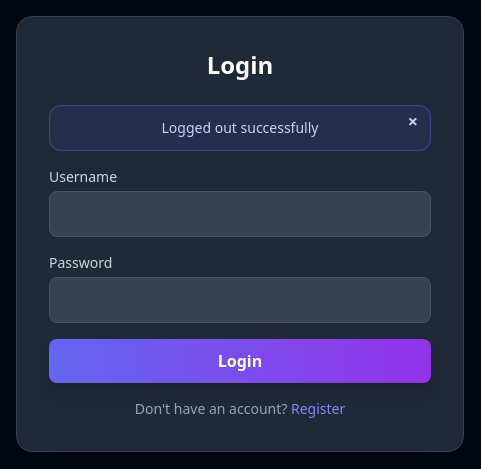
Test: LoginPage › loggedOut message can be dismissed with close button
What coordinates should you click on to do the following:
click the button "×"
I would click on:
 (413, 121)
Its box is [408,112,418,130].
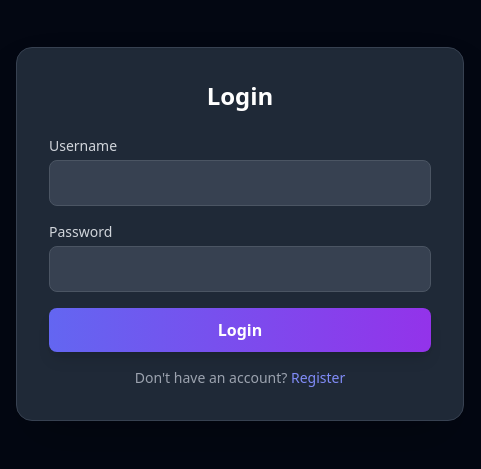
Now the text "Logged out successfully" is gone
